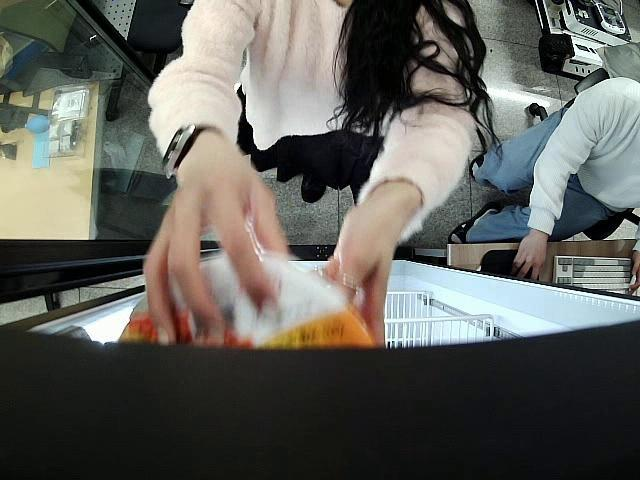10_wangTtukkeong: (115, 252, 378, 352)
